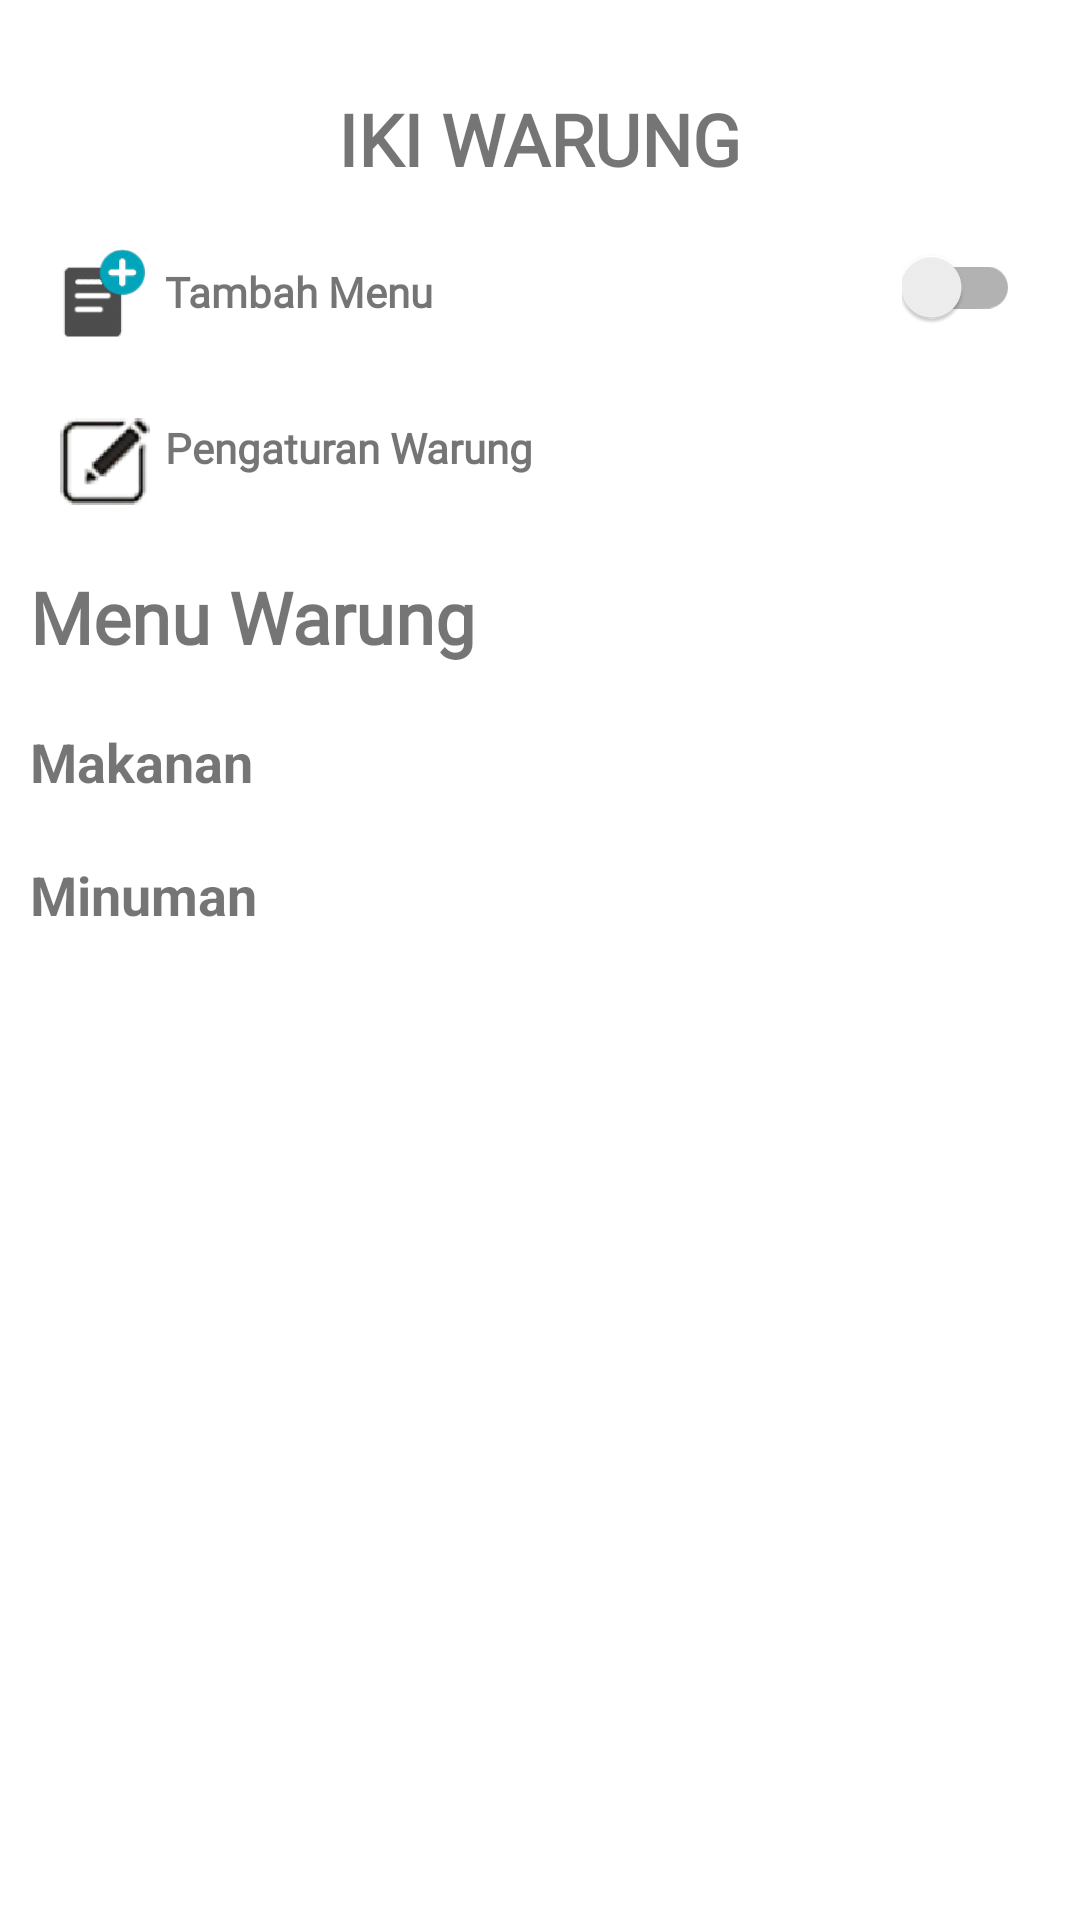

Icon click points for this 1080px x 1920px phone screenshot, format (x,y):
add: (104,293)
edit: (105,461)
